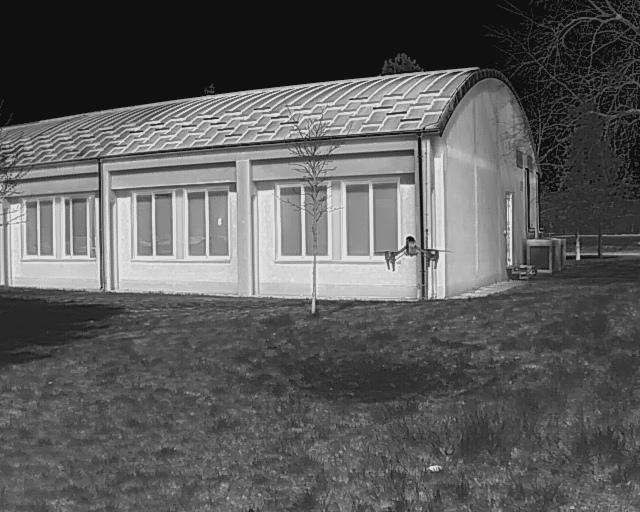drone: (368, 233, 459, 271)
